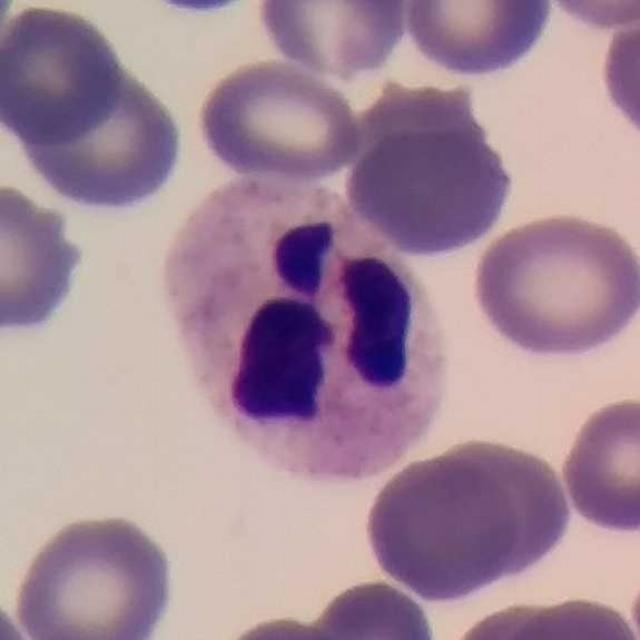Neutrophil: (148, 156, 466, 499)
RBC: (7, 34, 190, 220), (359, 442, 526, 604), (467, 208, 640, 363), (341, 110, 518, 261), (421, 433, 575, 595), (6, 507, 180, 640), (190, 57, 365, 185), (0, 1, 125, 148), (0, 176, 92, 345), (254, 0, 413, 83), (399, 0, 558, 82), (556, 392, 640, 539), (296, 575, 443, 640), (594, 1, 640, 153), (496, 592, 640, 640), (441, 597, 592, 640), (202, 610, 373, 640), (534, 0, 639, 32), (142, 0, 260, 22), (0, 586, 43, 640)
